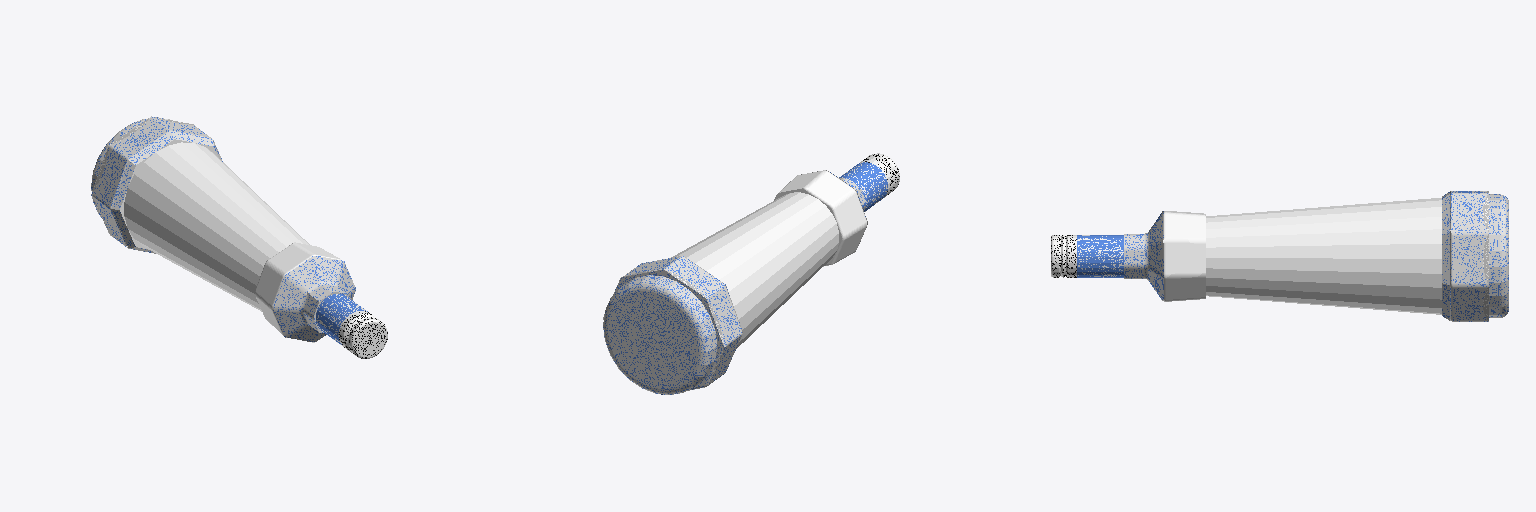
Rendered from model_align.obj.
3 views of the same model, side by side, from view 1: azimuth 30°, elevation 25°; view 2: azimuth 150°, elevation 25°; view 3: azimuth 270°, elevation 25° (orthographic).
Bounding box in the file's own units: 0.0752 × 0.0748 × 0.2465.